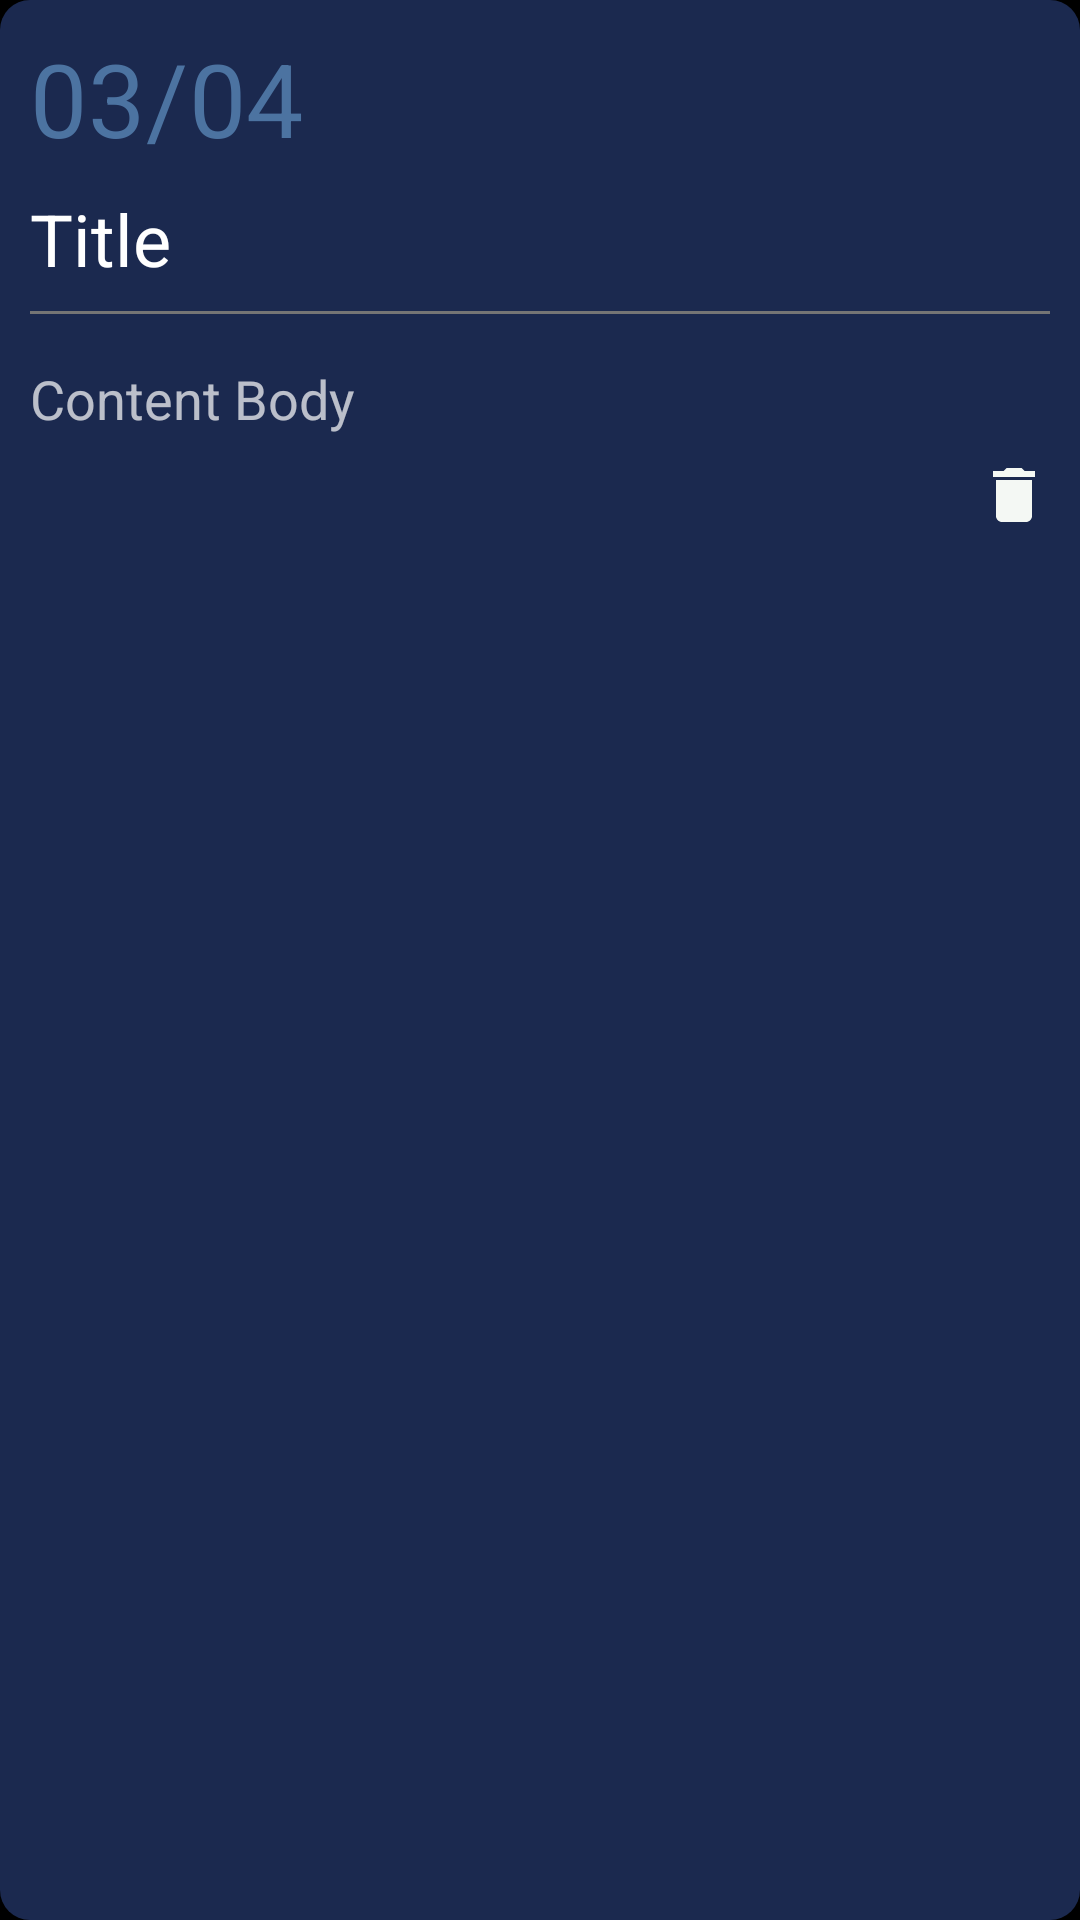

Where icons sit on this 1080x1920 app screen, as (x1, y1, x2, y2):
delete: (993, 468, 1035, 522)
